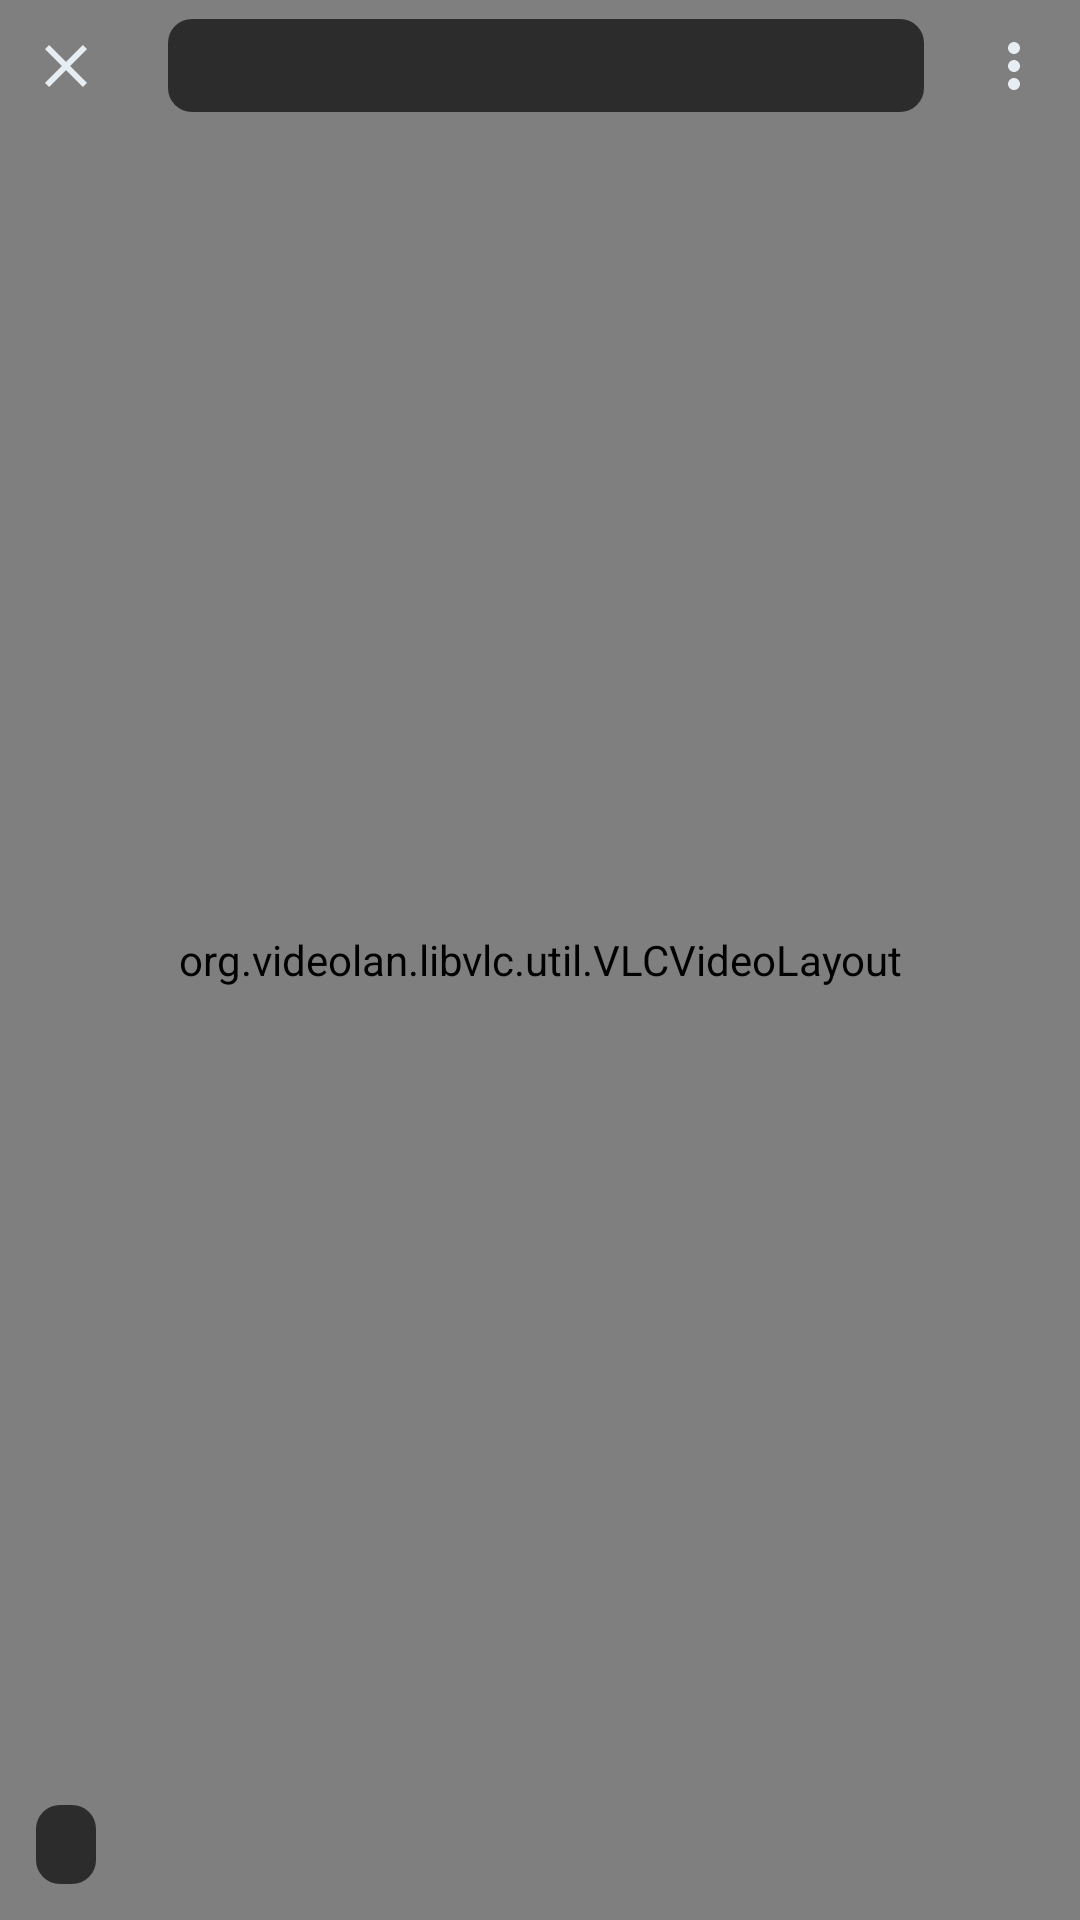

Named icons in this screenshot (1080*1920) and their centers, (x=x, y=y):
Tutup: (x=66, y=66)
